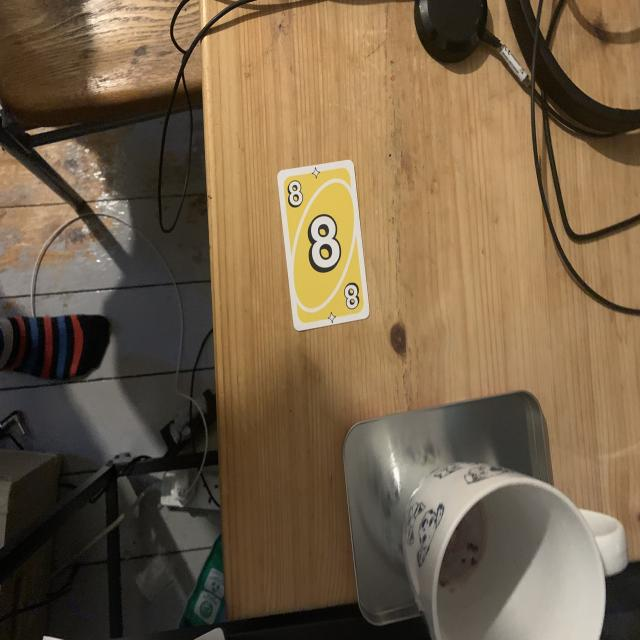lyellow-8: (284, 177, 306, 213)
